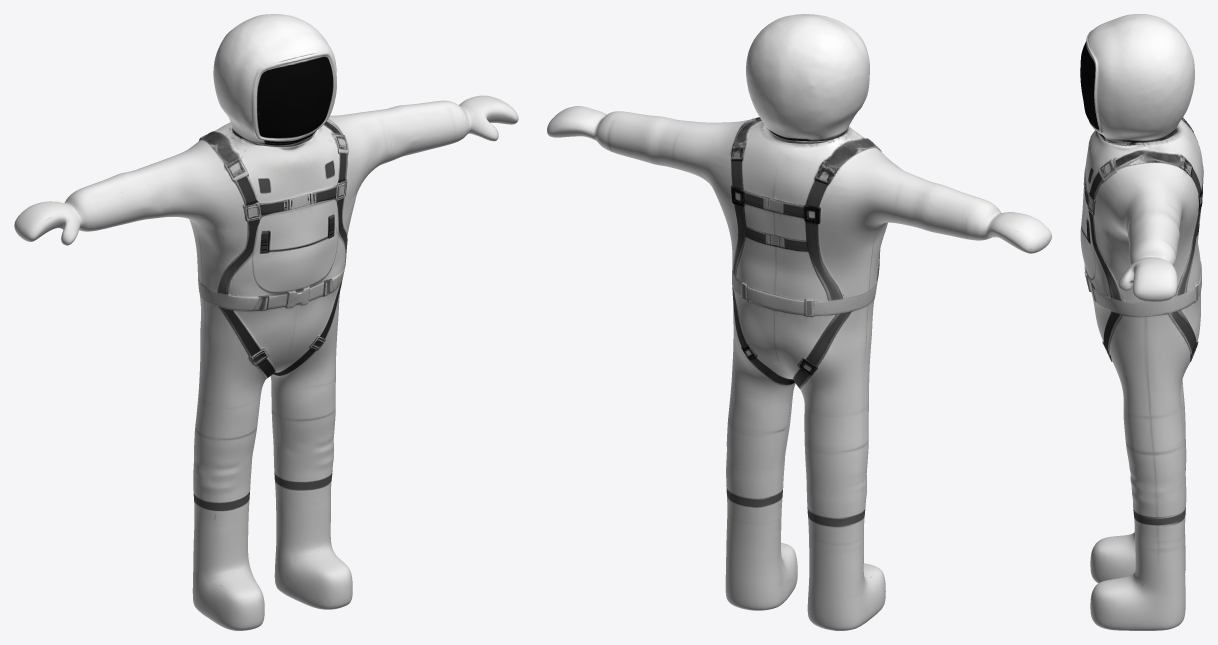
Rendered from Player2.fbx.
3 renders of one model, left to right at view 1: azimuth 30°, elevation 25°; view 2: azimuth 150°, elevation 25°; view 3: azimuth 270°, elevation 25°, orthographic.
Visible parts, largest first — view 1: Mesh_0; view 2: Mesh_0; view 3: Mesh_0.
Part boxes in pixels (x1,y1,x2,y2): Mesh_0: (14, 14, 518, 630); Mesh_0: (547, 14, 1051, 630); Mesh_0: (1080, 14, 1203, 630).
Size of the model in its own units: 167 by 190 by 36.41.
